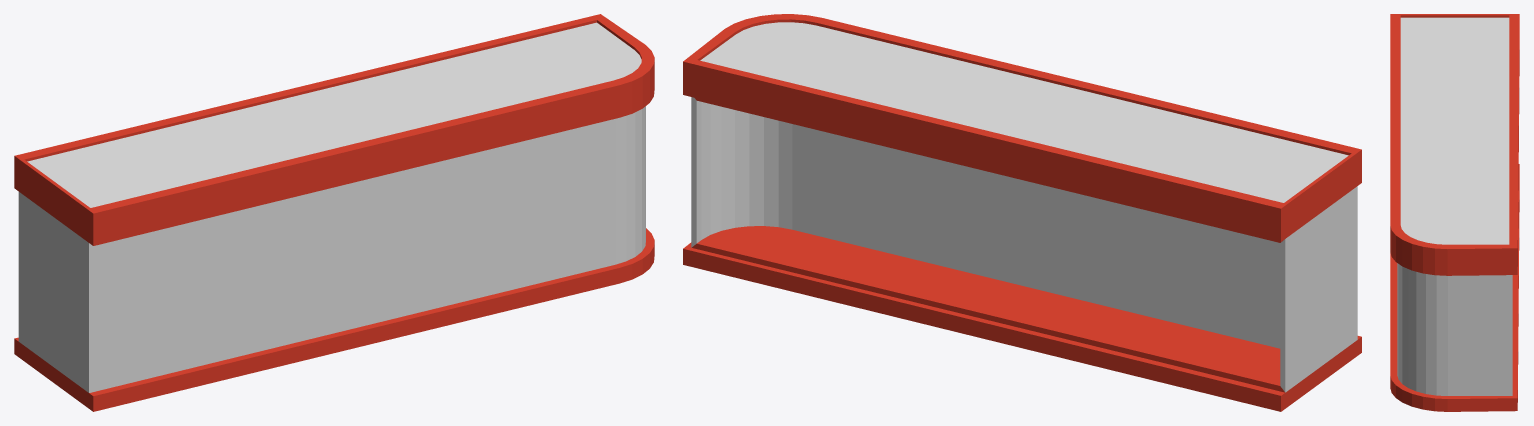
Rendered from ContadorGasolinera.fbx.
The picture shows the model from 3 angles, left to right: view 1: azimuth 30°, elevation 25°; view 2: azimuth 150°, elevation 25°; view 3: azimuth 270°, elevation 25°; orthographic projection. The views are drawn at different scales.
Visible parts, largest first — view 1: Cube.005; view 2: Cube.005; view 3: Cube.005.
Boxes of the visible parts, x1,y1,x2,y2 form: Cube.005: (14, 14, 654, 411); Cube.005: (683, 14, 1361, 411); Cube.005: (1390, 14, 1519, 411).
Bounding box in the file's own units: 476 × 154 × 111.
